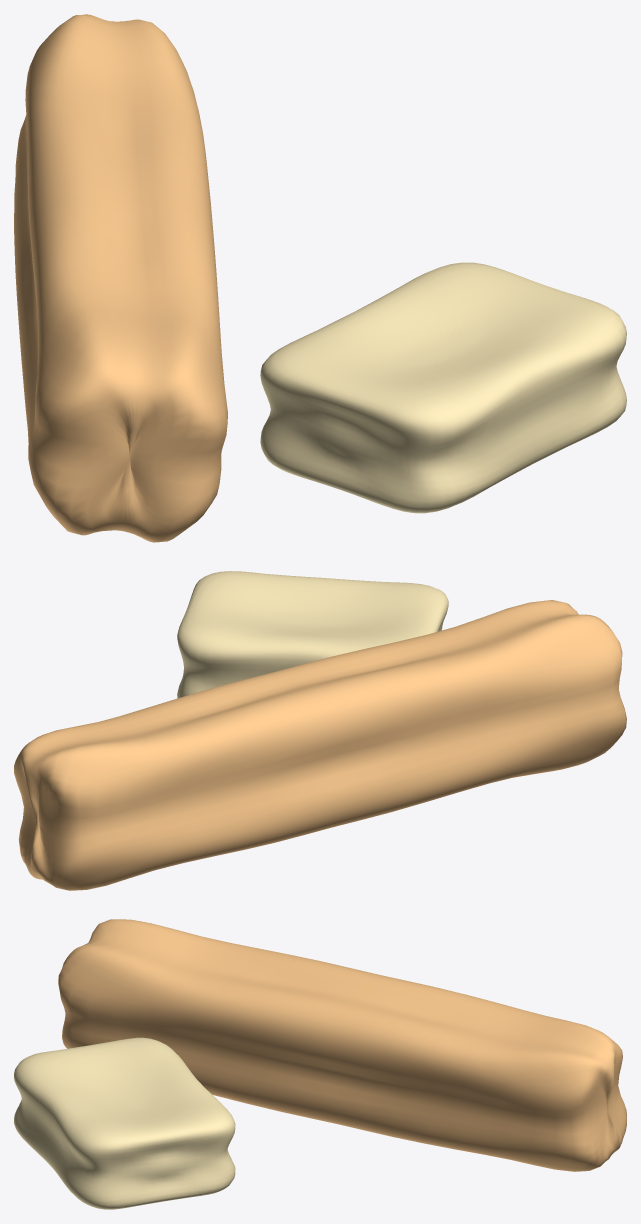
The model's file is precuttofu.fbx.
3 views of the same model, one above another, from view 1: azimuth 30°, elevation 25°; view 2: azimuth 150°, elevation 25°; view 3: azimuth 270°, elevation 25° (orthographic). The views are drawn at different scales.
Visible parts, largest first — view 1: Sphere.093, Sphere.092; view 2: Sphere.093, Sphere.092; view 3: Sphere.093, Sphere.092.
Boxes of the visible parts, x1=… form: Sphere.093: x1=14, y1=14, x2=227, y2=542; Sphere.092: x1=260, y1=262, x2=626, y2=513; Sphere.093: x1=14, y1=600, x2=626, y2=890; Sphere.092: x1=177, y1=571, x2=448, y2=698; Sphere.093: x1=58, y1=919, x2=626, y2=1171; Sphere.092: x1=14, y1=1037, x2=235, y2=1209.
Bounding box in the file's own units: 235 × 76.16 × 319.
